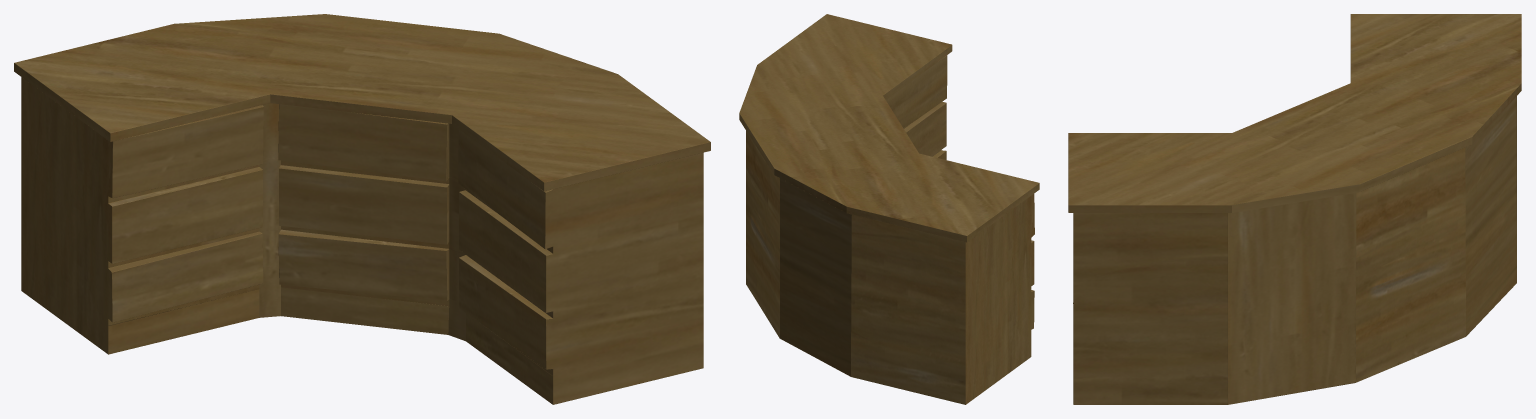
Rendered from Cabinet7.fbx.
3 renders of one model, left to right at view 1: azimuth 30°, elevation 25°; view 2: azimuth 150°, elevation 25°; view 3: azimuth 270°, elevation 25°, orthographic. The views are drawn at different scales.
Parts seen in each view (by area): view 1: Cabinet7; view 2: Cabinet7; view 3: Cabinet7.
Part boxes in pixels (x1,y1,x2,y2): Cabinet7: [14, 14, 710, 404]; Cabinet7: [739, 14, 1039, 404]; Cabinet7: [1068, 14, 1521, 404].
Bounding box in the file's own units: 642 × 316 × 643.
